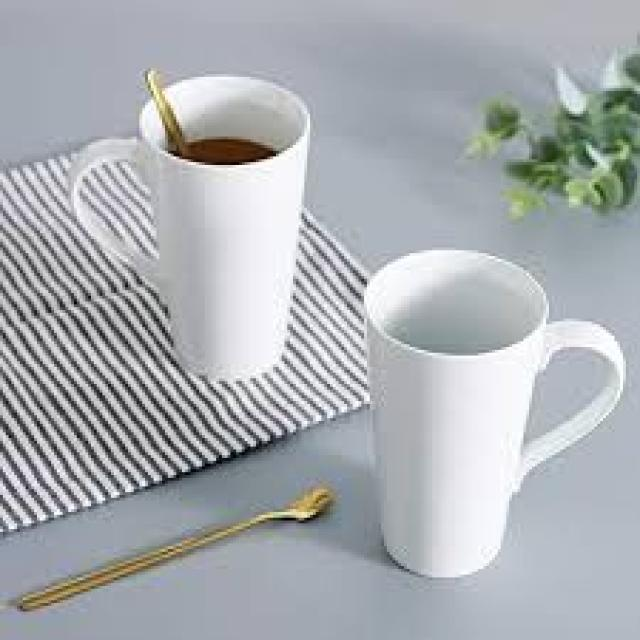taza: (346, 234, 630, 585), (58, 67, 304, 385)
